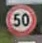limite 50: (5, 4, 36, 36)
